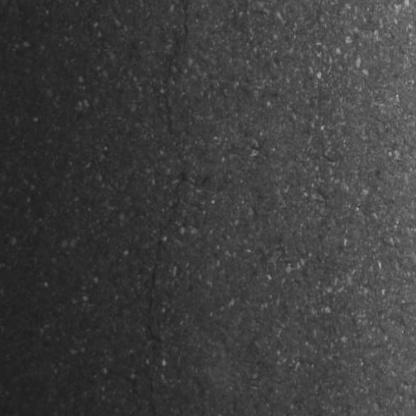Cracks: (147, 0, 196, 346), (148, 379, 166, 416), (269, 0, 282, 6)
